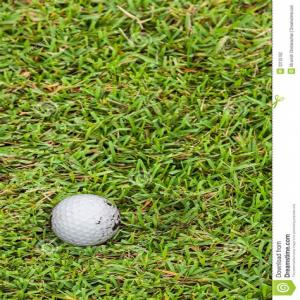Golf: (51, 194, 126, 247)
